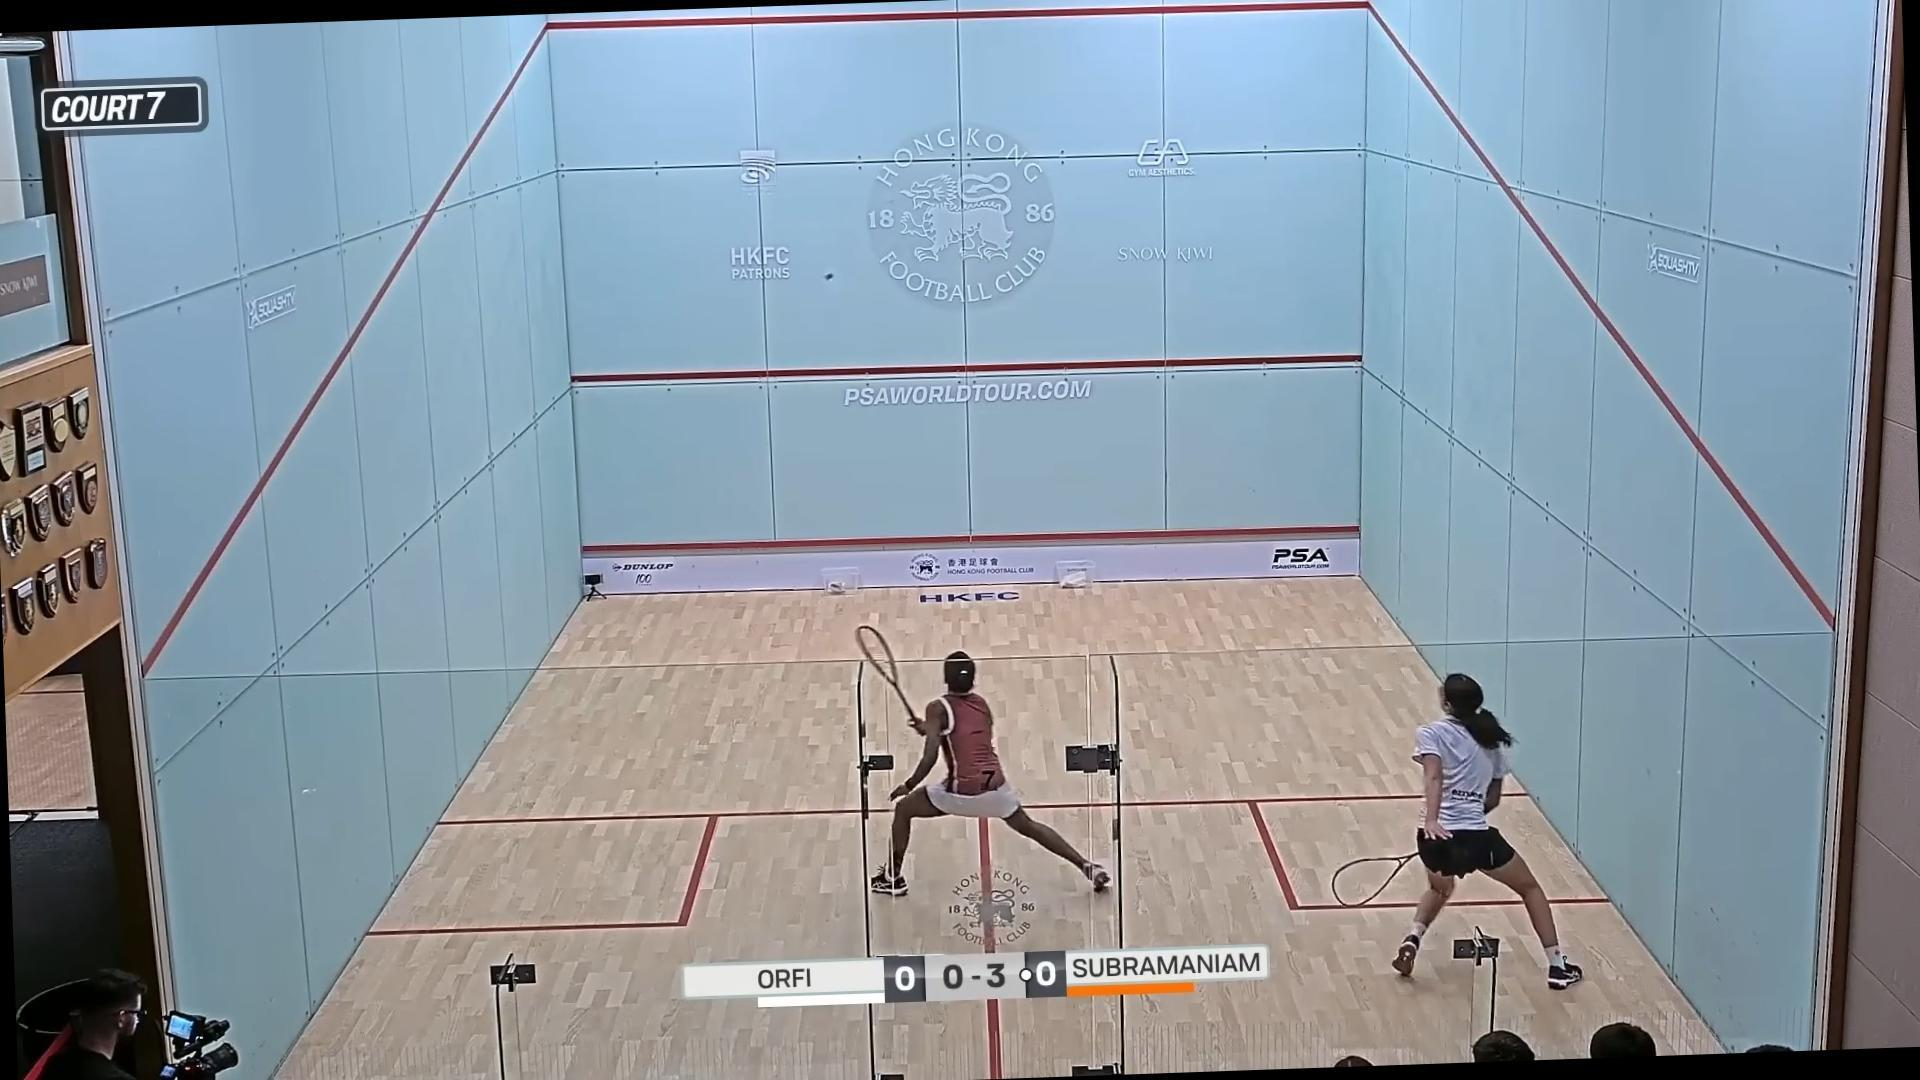Squash-Ball: (814, 266, 845, 291)
